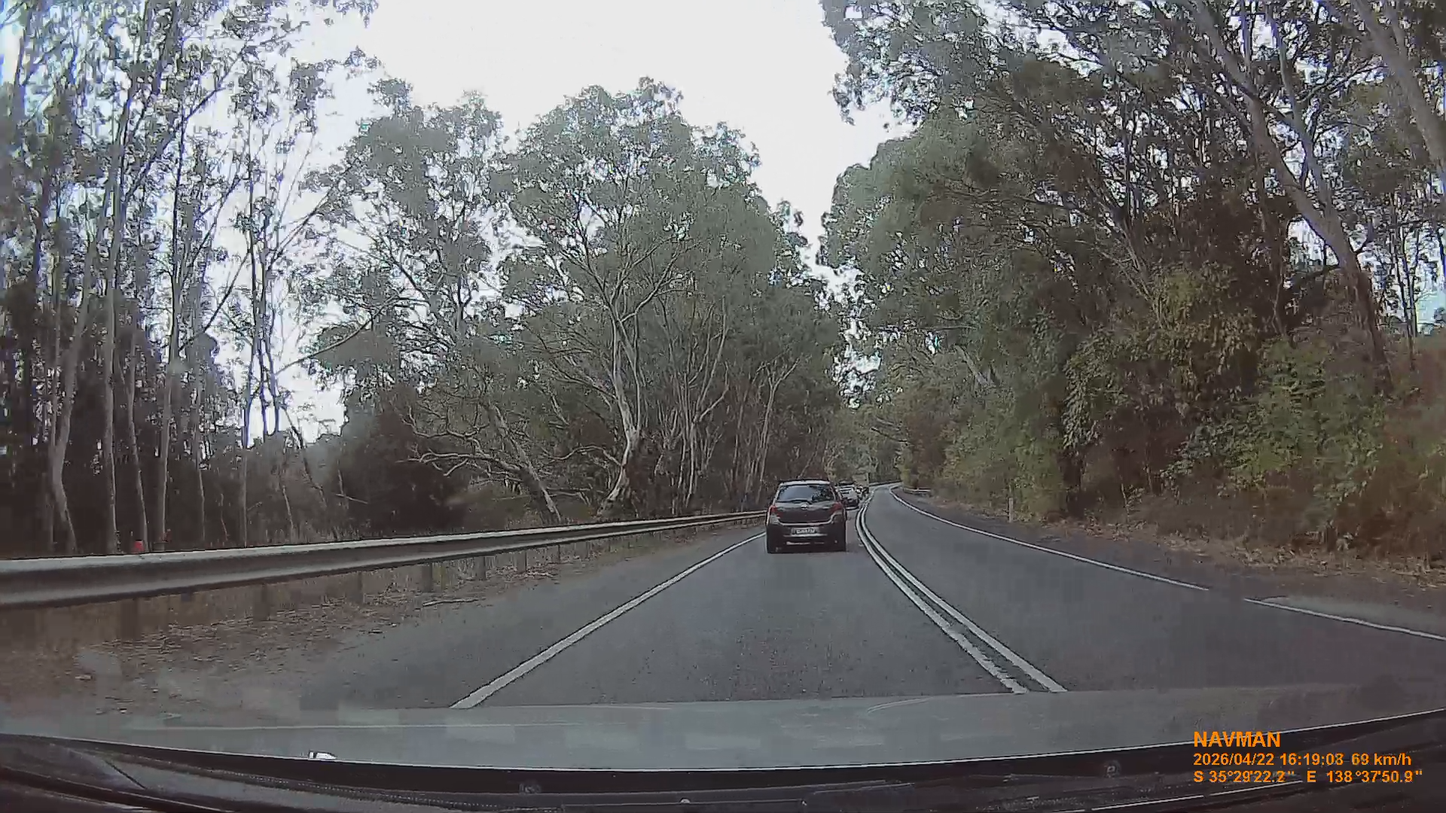road barriers: (0, 512, 755, 609)
